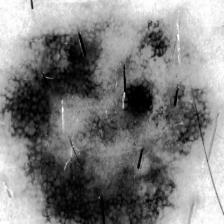Benign Marking or Mole: (12, 26, 206, 224)
